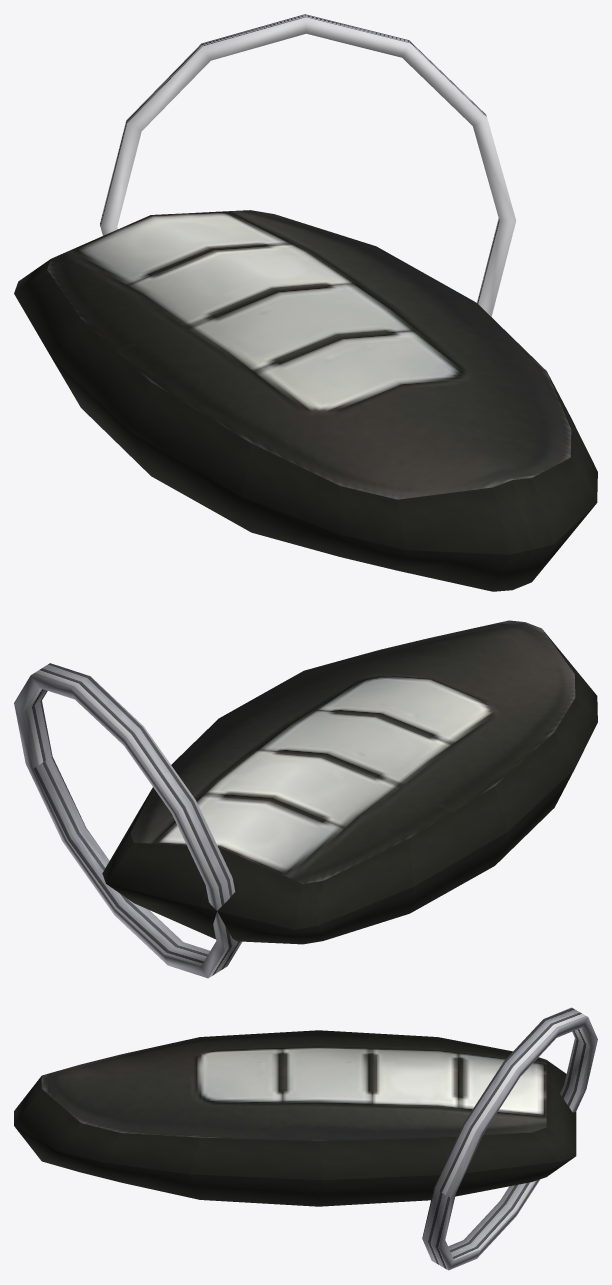
Rendered from key_car_fob.fbx.
3 views of the same model, one above another, from view 1: azimuth 30°, elevation 25°; view 2: azimuth 150°, elevation 25°; view 3: azimuth 270°, elevation 25° (orthographic). The views are drawn at different scales.
Parts seen in each view (by area): view 1: key_Car_fob; view 2: key_Car_fob; view 3: key_Car_fob.
Part boxes in pixels (box(x1,y1,x2,y2)): key_Car_fob: box(14, 14, 597, 591); key_Car_fob: box(14, 620, 597, 978); key_Car_fob: box(14, 1007, 597, 1270).
Size of the model in its own units: 11.14 by 8.15 by 16.94.
1 material, 1 textured.
